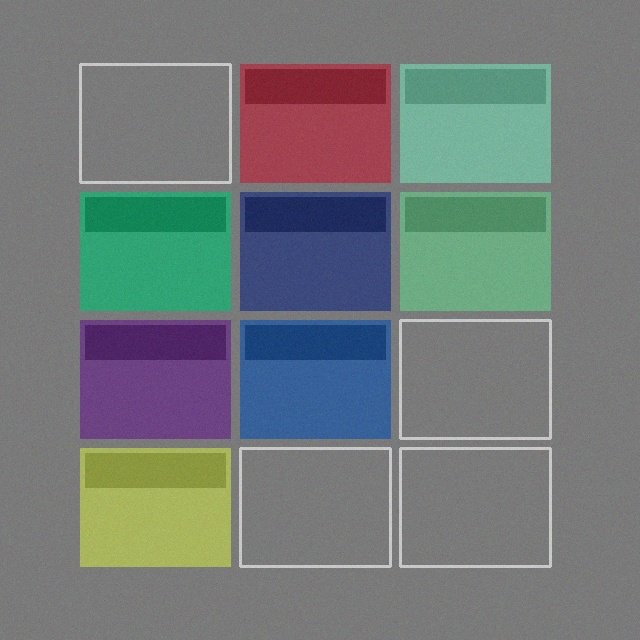space-empty: (80, 64, 230, 182), (400, 320, 550, 438), (240, 448, 390, 566), (400, 448, 550, 566)
space-occupied: (240, 64, 390, 182), (400, 64, 550, 182), (80, 192, 230, 310), (240, 192, 390, 310), (400, 192, 550, 310), (80, 320, 230, 438), (240, 320, 390, 438), (80, 448, 230, 566)
